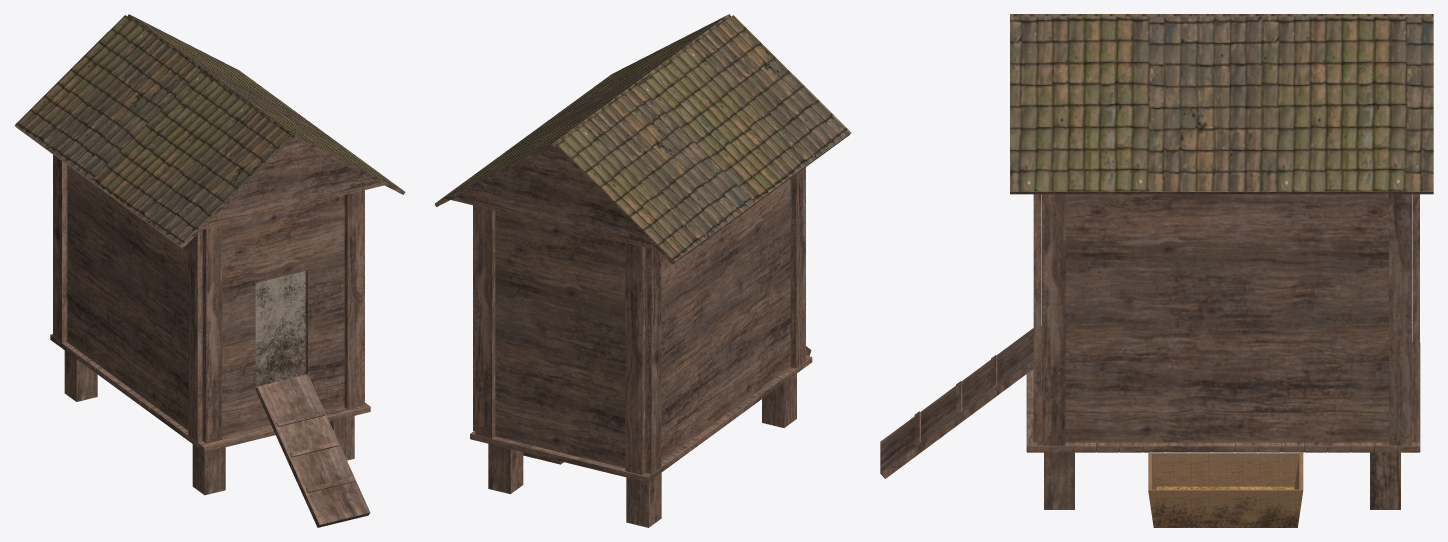
Rendered from vv_gallinero_a.glb.
The picture shows the model from 3 angles, left to right: view 1: azimuth 30°, elevation 25°; view 2: azimuth 150°, elevation 25°; view 3: azimuth 270°, elevation 25°; orthographic projection. The views are drawn at different scales.
Visible parts, largest first — view 1: Object_3, Object_2; view 2: Object_3; view 3: Object_3, Object_2.
Part boxes in pixels (x1,y1,x2,y2): Object_3: (14, 14, 405, 527); Object_2: (255, 271, 305, 388); Object_3: (435, 14, 851, 527); Object_3: (880, 14, 1433, 509); Object_2: (1148, 453, 1303, 527).
Bounding box in the file's own units: 167 × 249 × 279.
Materials: 2 (2 with a texture image).
